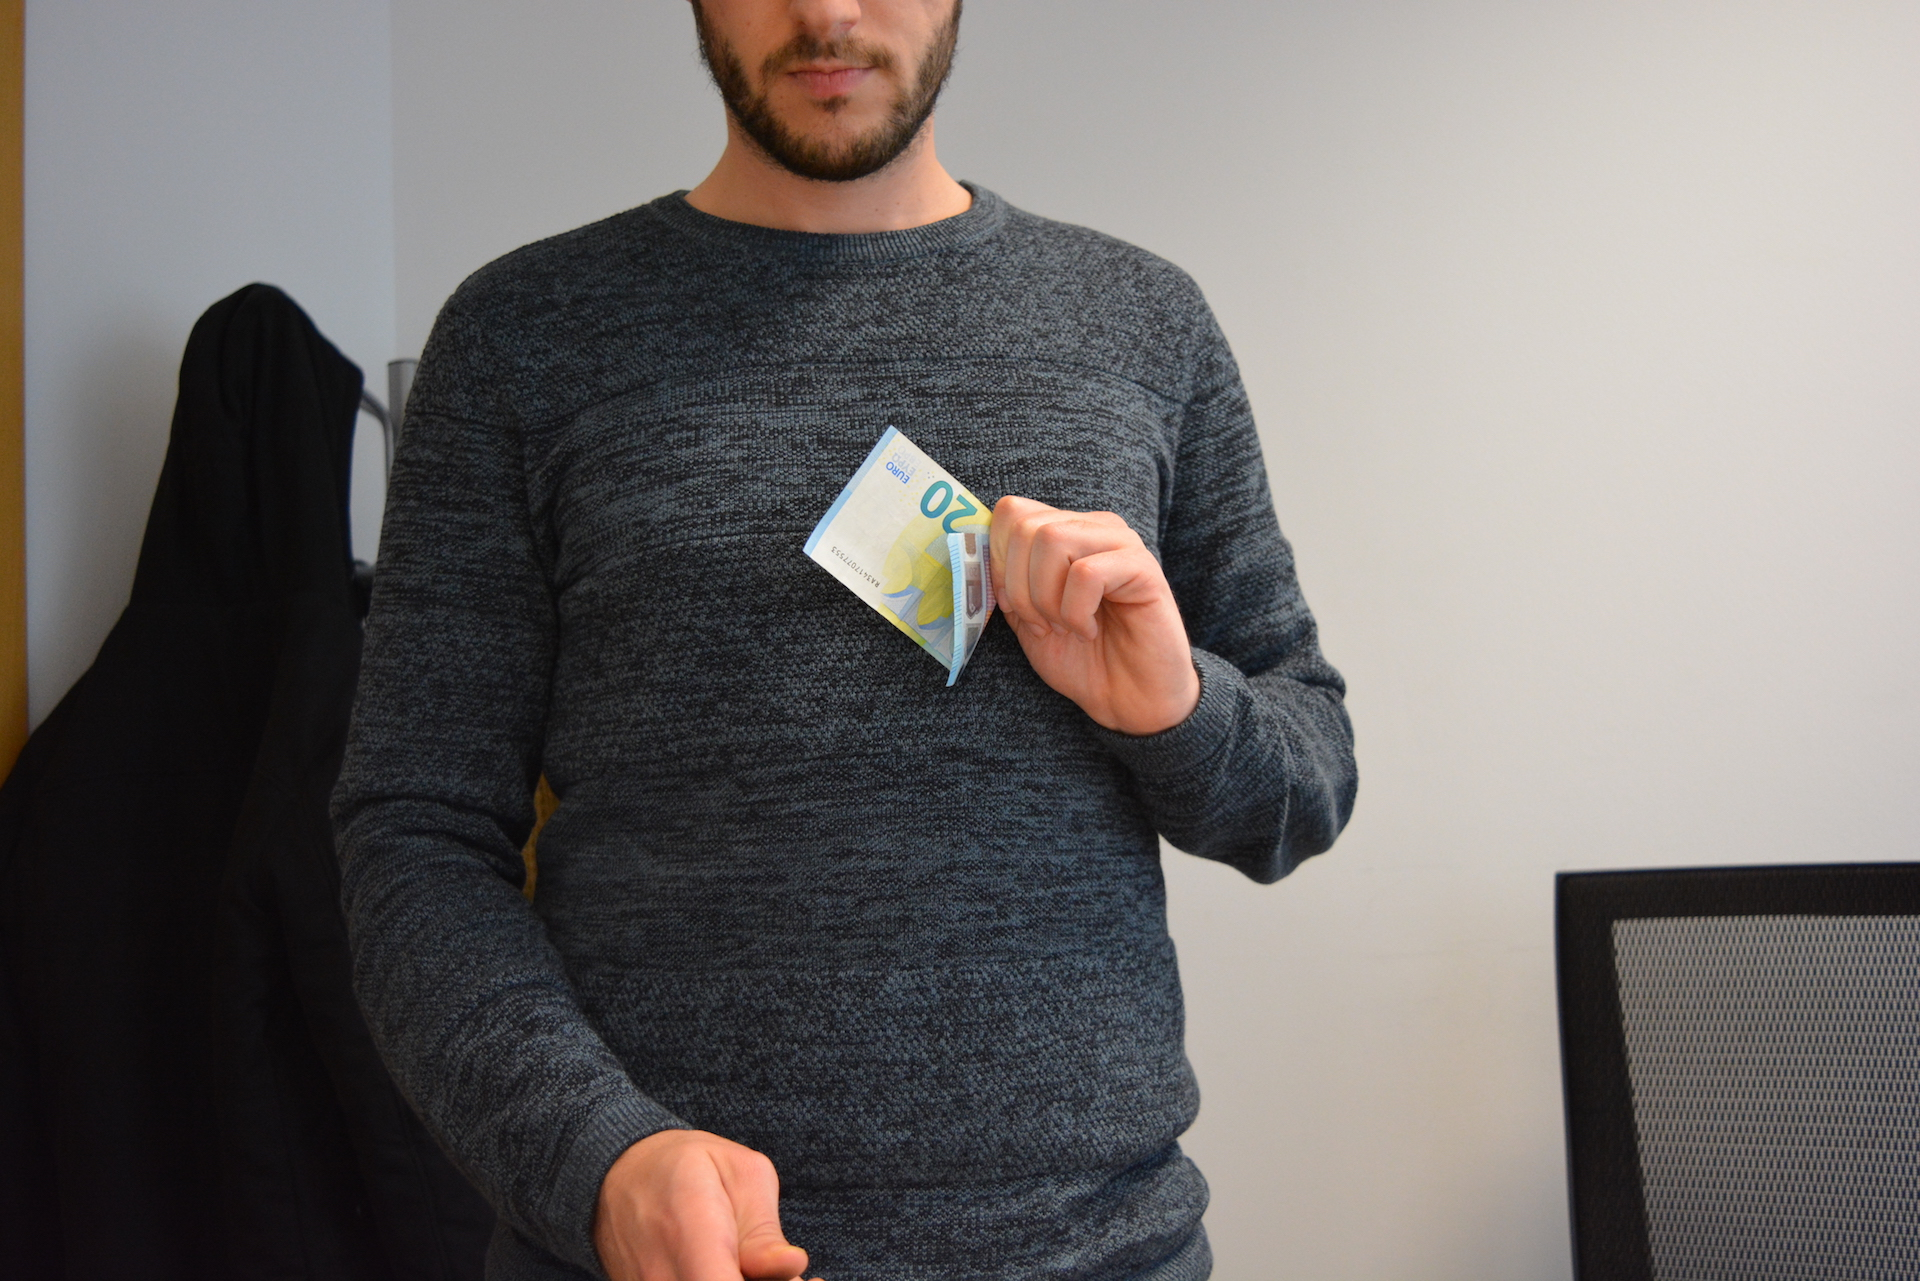billete: (799, 423, 999, 691)
